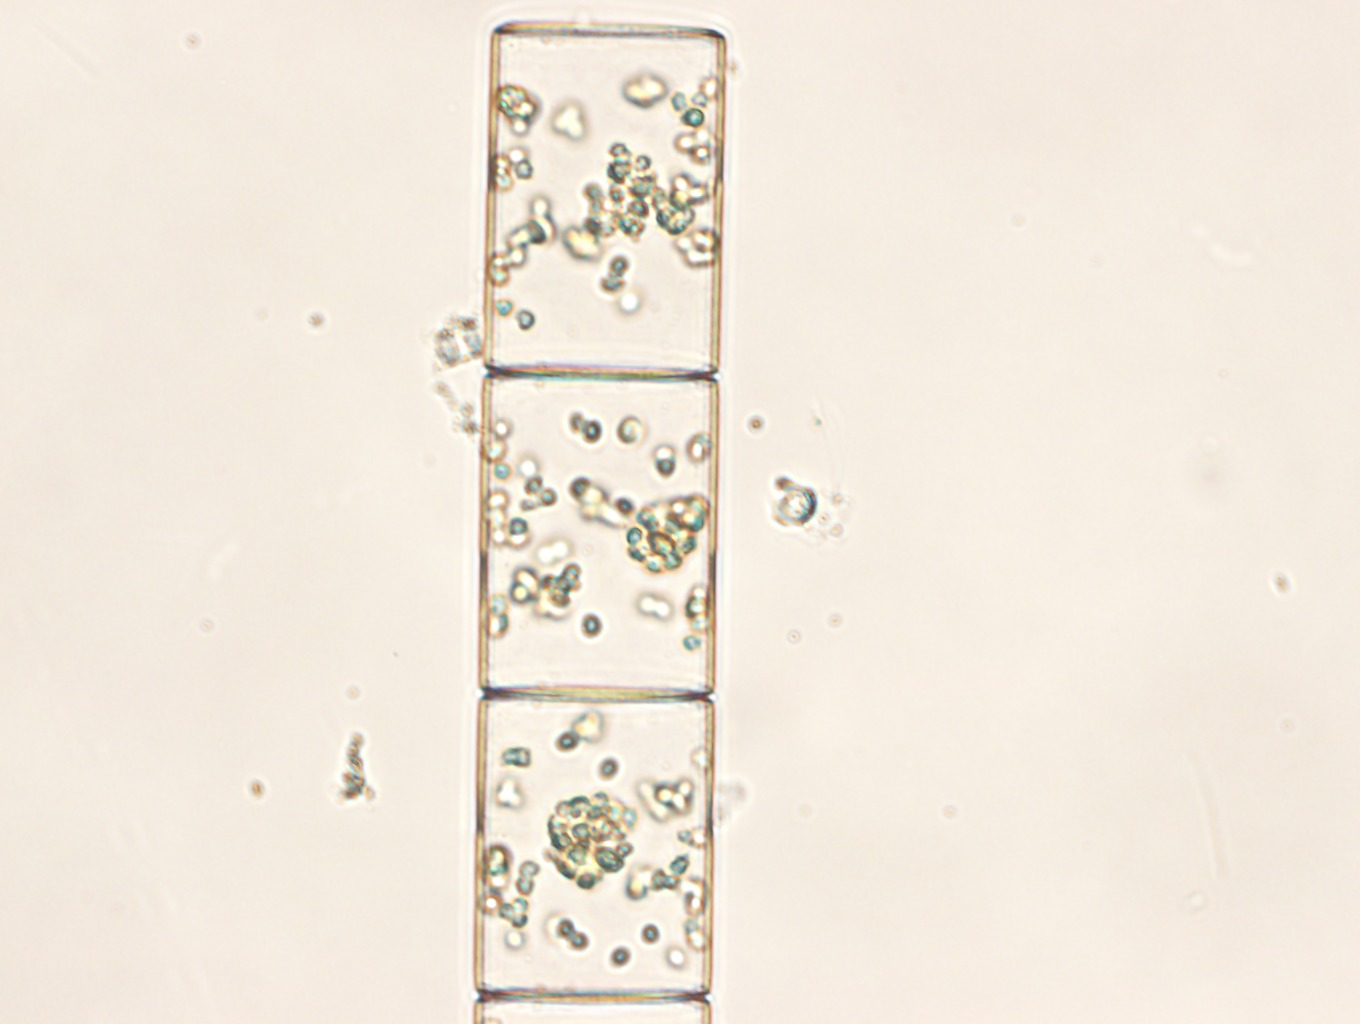guinardia flaccida: (472, 22, 725, 1024)
